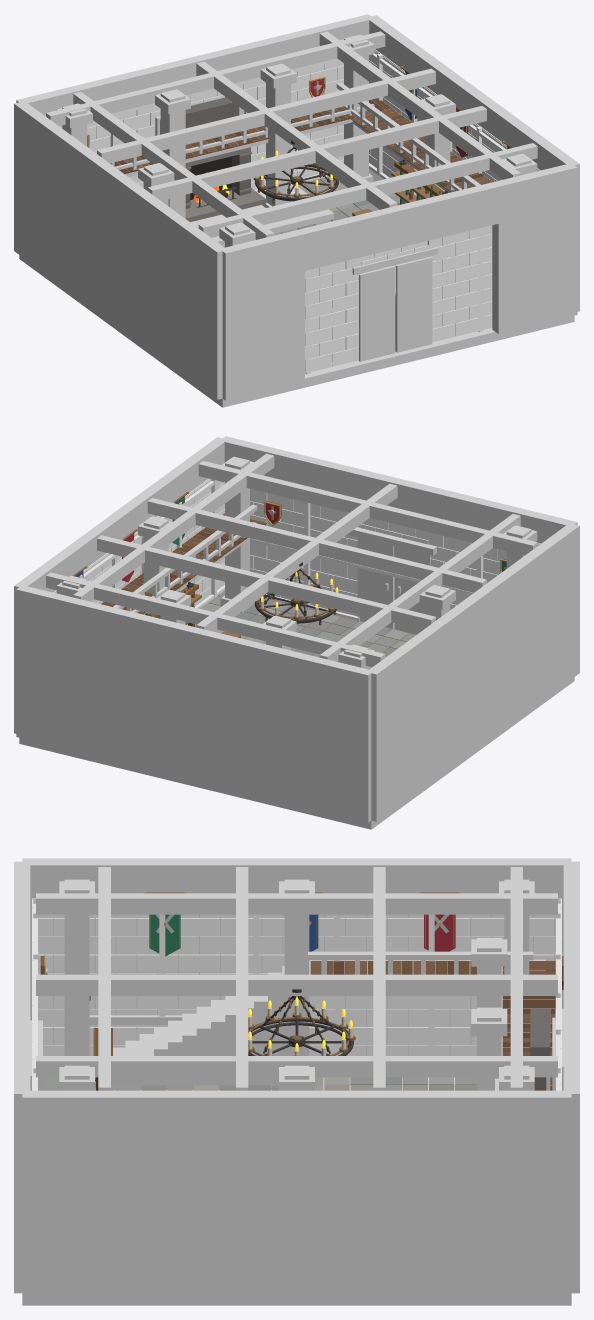
Rendered from adventurers_guild.blend.glb.
3 renders of one model, top to bottom at view 1: azimuth 30°, elevation 25°; view 2: azimuth 150°, elevation 25°; view 3: azimuth 270°, elevation 25°, orthographic. The views are drawn at different scales.
Parts seen in each view (by area): view 1: Left Wall, Front Wall Right, Front Wall Left, Front Wall Above Door, Back Wall, Right Wall, Oak Ceiling Beam.001, Oak Ceiling Beam.002, Oak Ceiling Beam, Main Stone Floor, Oak Ceiling Beam.003, Cross Ceiling Beam.002 (+16 smaller); view 2: Back Wall, Left Wall, Right Wall, Front Wall Above Door, Oak Ceiling Beam.002, Oak Ceiling Beam, Oak Ceiling Beam.001, Oak Ceiling Beam.003, Cross Ceiling Beam.002, Main Stone Floor, Cross Ceiling Beam.001, Cross Ceiling Beam (+9 smaller); view 3: Right Wall, Left Wall, Cross Ceiling Beam, Cross Ceiling Beam.001, Cross Ceiling Beam.002, Back Wall, Main Stone Floor, Stone Pillar, Oak Ceiling Beam.001, Oak Ceiling Beam.002, Oak Ceiling Beam, Oak Ceiling Beam.003 (+45 smaller).
Part boxes in pixels (x1=…): Left Wall: x1=14, y1=101, x2=225, y2=399; Front Wall Right: x1=492, y1=163, x2=577, y2=333; Front Wall Left: x1=220, y1=229, x2=304, y2=400; Front Wall Above Door: x1=299, y1=182, x2=498, y2=270; Back Wall: x1=16, y1=14, x2=373, y2=171; Right Wall: x1=367, y1=15, x2=579, y2=311; Oak Ceiling Beam.001: x1=147, y1=106, x2=486, y2=200; Oak Ceiling Beam.002: x1=97, y1=68, x2=435, y2=163; Oak Ceiling Beam: x1=198, y1=143, x2=537, y2=237; Main Stone Floor: x1=19, y1=255, x2=574, y2=407; Oak Ceiling Beam.003: x1=46, y1=31, x2=385, y2=125; Cross Ceiling Beam.002: x1=319, y1=31, x2=520, y2=179; Back Wall: x1=16, y1=585, x2=373, y2=822; Left Wall: x1=367, y1=523, x2=579, y2=821; Right Wall: x1=14, y1=437, x2=226, y2=733; Front Wall Above Door: x1=298, y1=455, x2=497, y2=530; Oak Ceiling Beam.002: x1=97, y1=535, x2=435, y2=629; Oak Ceiling Beam: x1=198, y1=461, x2=537, y2=555; Oak Ceiling Beam.001: x1=147, y1=498, x2=486, y2=592; Oak Ceiling Beam.003: x1=46, y1=572, x2=385, y2=667; Cross Ceiling Beam.002: x1=73, y1=453, x2=274, y2=601; Main Stone Floor: x1=19, y1=677, x2=574, y2=829; Cross Ceiling Beam.001: x1=196, y1=483, x2=397, y2=631; Cross Ceiling Beam: x1=319, y1=514, x2=520, y2=661; Right Wall: x1=22, y1=1090, x2=571, y2=1296; Left Wall: x1=22, y1=858, x2=571, y2=1055; Cross Ceiling Beam: x1=36, y1=893, x2=557, y2=914; Cross Ceiling Beam.001: x1=36, y1=974, x2=557, y2=995; Cross Ceiling Beam.002: x1=36, y1=1056, x2=557, y2=1077; Back Wall: x1=563, y1=861, x2=579, y2=1293; Main Stone Floor: x1=22, y1=1077, x2=571, y2=1305; Stone Pillar: x1=64, y1=879, x2=89, y2=1055; Oak Ceiling Beam.001: x1=236, y1=867, x2=248, y2=1090; Oak Ceiling Beam.002: x1=373, y1=867, x2=385, y2=1090; Oak Ceiling Beam: x1=98, y1=867, x2=110, y2=1090; Oak Ceiling Beam.003: x1=510, y1=867, x2=522, y2=1090.
Size of the model in its own units: 20.6 by 8.52 by 20.6.
